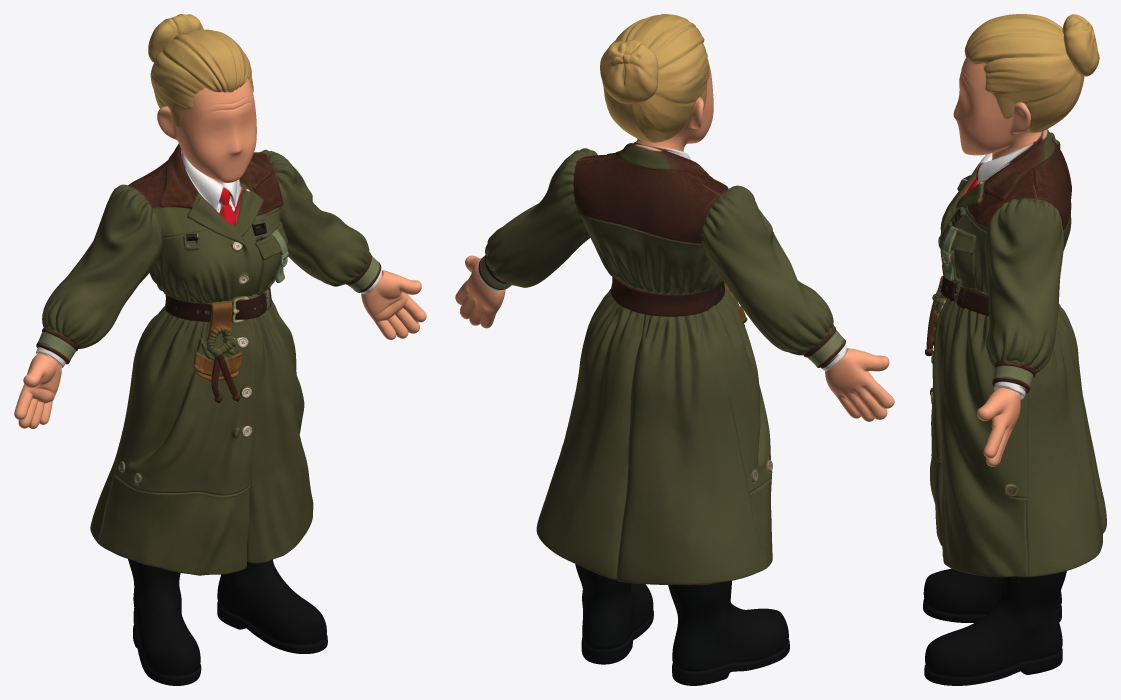
3 views of the same model, side by side, from view 1: azimuth 30°, elevation 25°; view 2: azimuth 150°, elevation 25°; view 3: azimuth 270°, elevation 25° (orthographic). The views are drawn at different scales.
Bounding box in the file's own units: 1.36 × 1.9 × 0.5069.
1 material, 1 textured.
